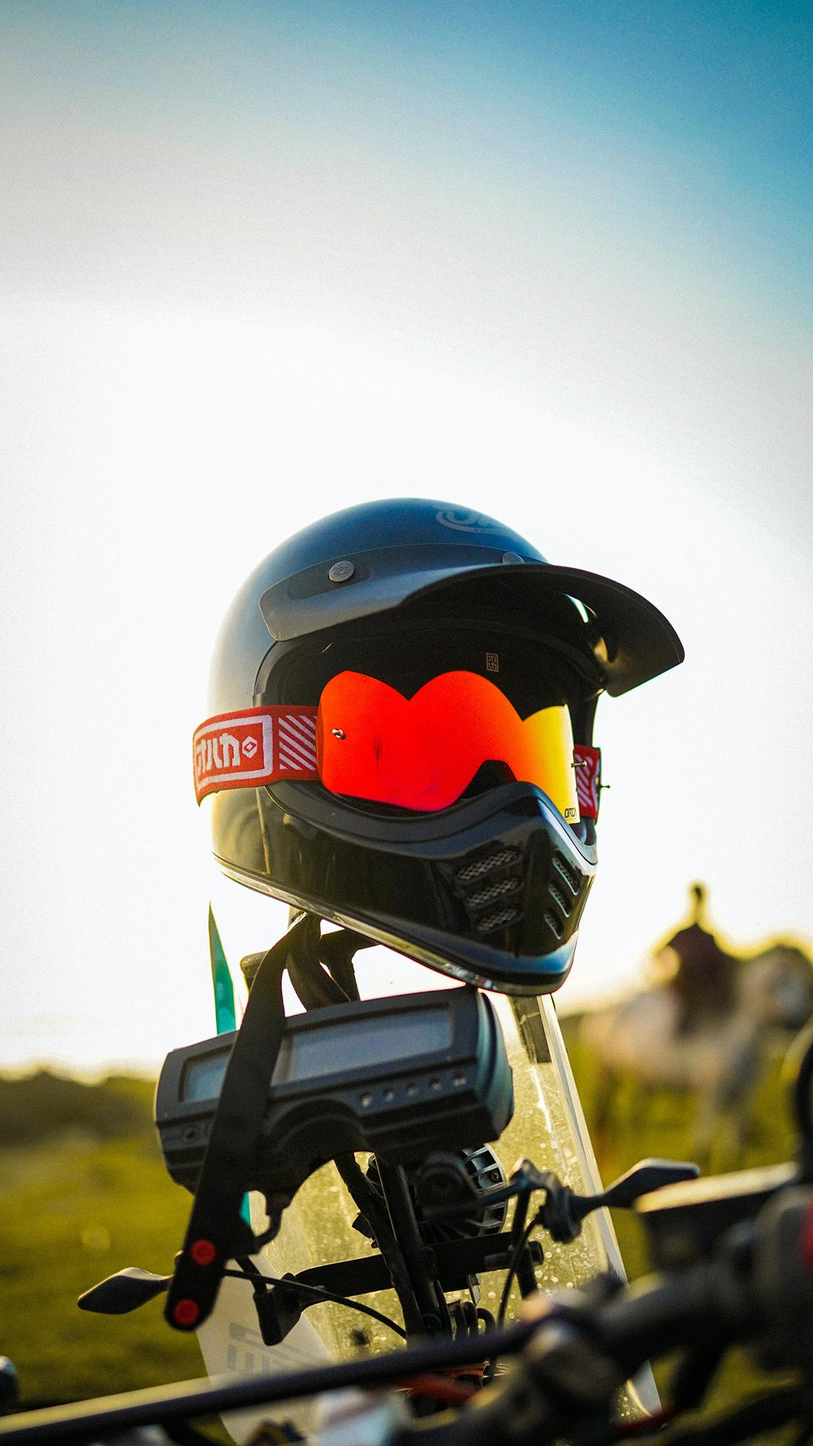helmet: (189, 493, 688, 1000)
